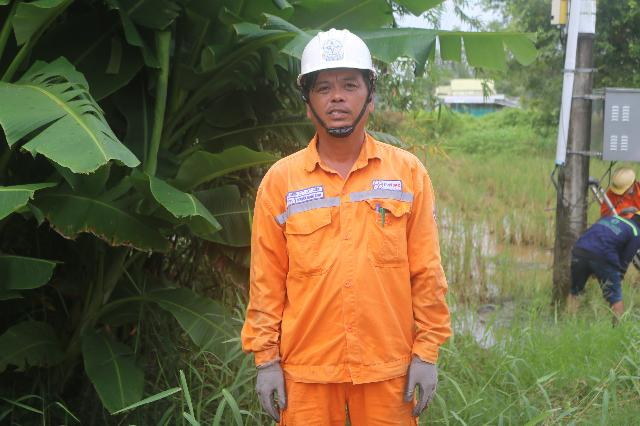gloves: (395, 348, 443, 419), (253, 351, 294, 426)
helmet: (293, 22, 381, 85)
